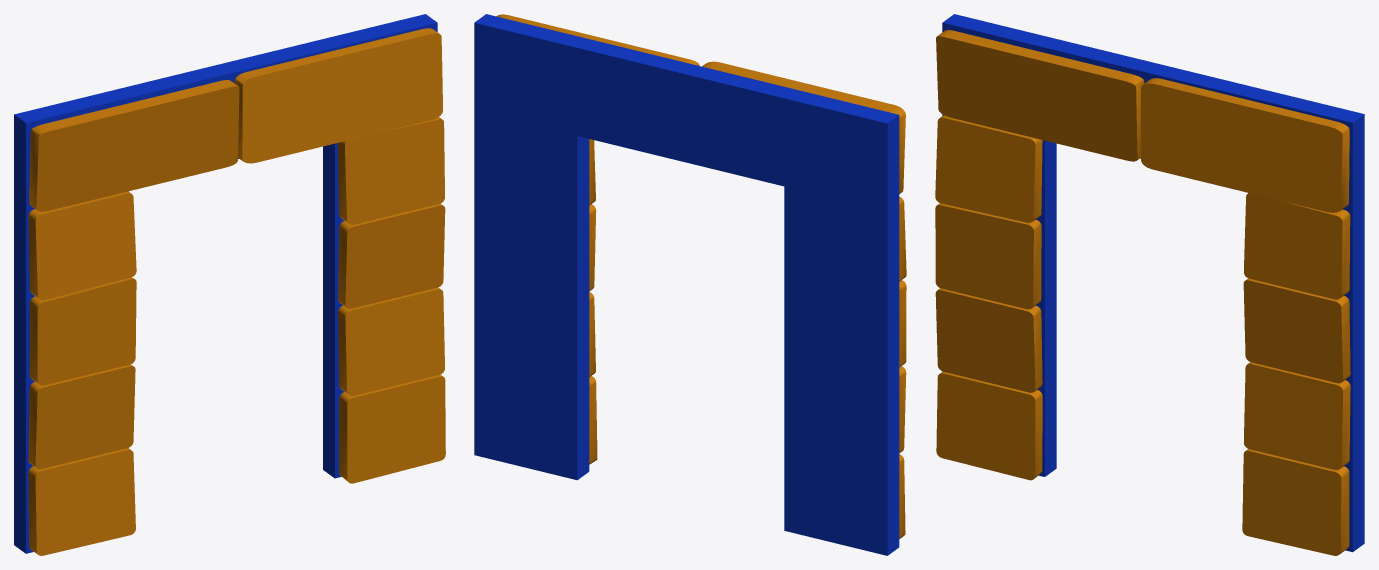
File: Unity HD Render Pipeline (Metallic Standard).fbx
The picture shows the model from 3 angles, left to right: view 1: azimuth 30°, elevation 25°; view 2: azimuth 150°, elevation 25°; view 3: azimuth 330°, elevation 25°; orthographic projection.
Visible parts, largest first — view 1: WallDoor (×2); view 2: WallDoor (×2); view 3: WallDoor (×2).
Part boxes in pixels (<box>): WallDoor (×2): <box>14,14,445,555</box>; WallDoor (×2): <box>474,14,906,555</box>; WallDoor (×2): <box>935,14,1364,555</box>.
Size of the model in its own units: 2 by 2 by 0.1973.
